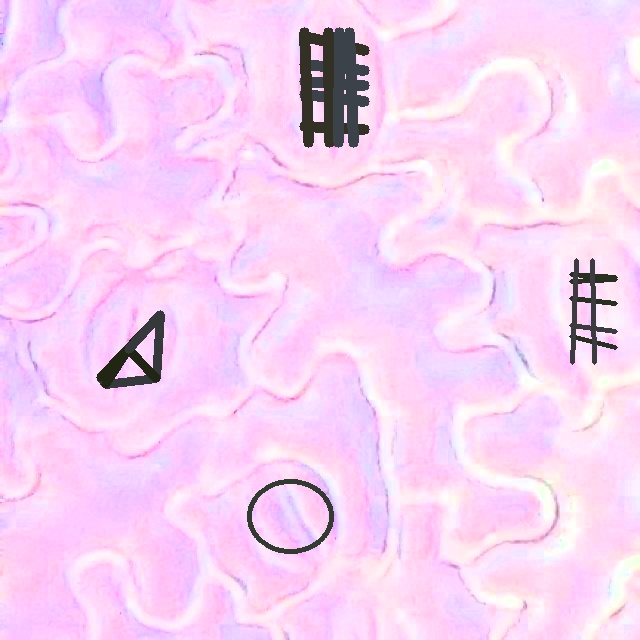open: (300, 28, 368, 147), (247, 478, 334, 554), (569, 258, 617, 364), (97, 310, 160, 388)
